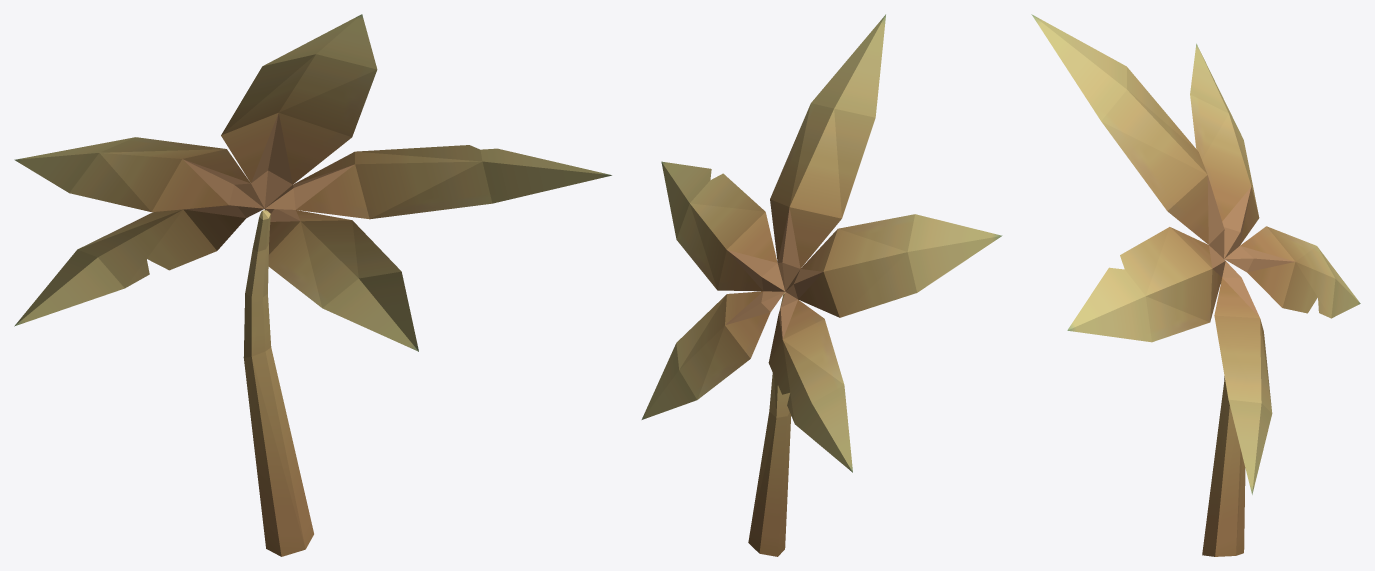
File: herbFocus.fbx
3 renders of one model, left to right at view 1: azimuth 30°, elevation 25°; view 2: azimuth 150°, elevation 25°; view 3: azimuth 270°, elevation 25°, orthographic. The views are drawn at different scales.
Visible parts, largest first — view 1: herbFocus; view 2: herbFocus; view 3: herbFocus.
Part boxes in pixels (left/top/right/bottom): herbFocus: left=14, top=14, right=611, bottom=556; herbFocus: left=641, top=14, right=1002, bottom=556; herbFocus: left=1031, top=14, right=1360, bottom=556.
Size of the model in its own units: 2.03 by 2.33 by 1.32.
